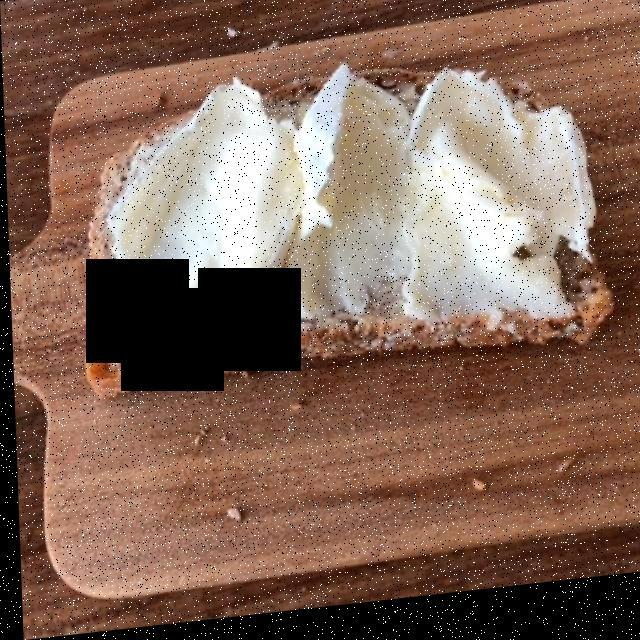bread: (97, 78, 599, 373)
cheese: (89, 72, 575, 342)
